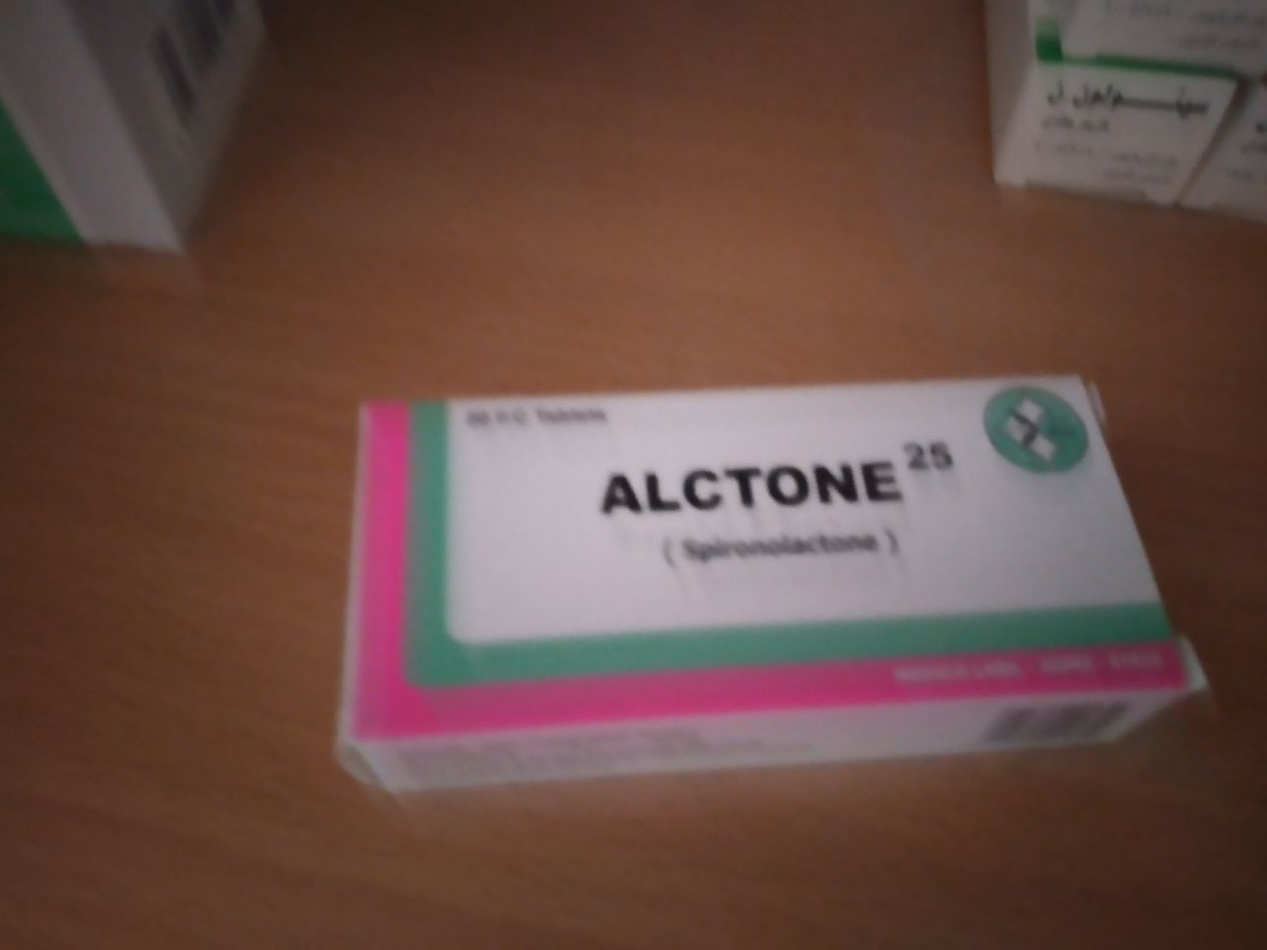Medicine: (329, 366, 1198, 824)
